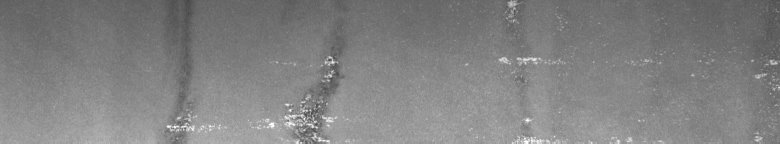hc: (165, 4, 345, 136)
